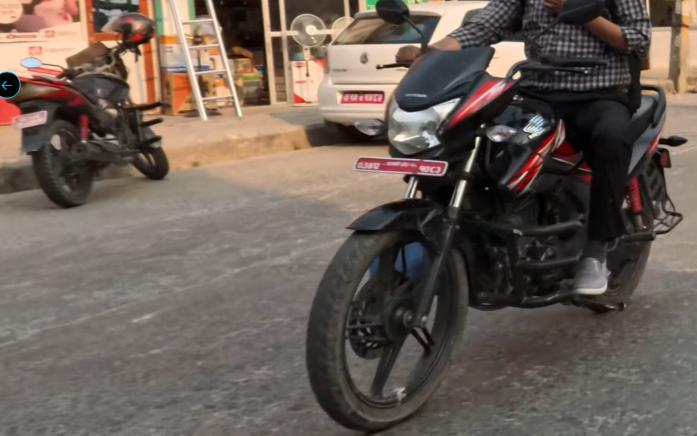bike: (302, 15, 689, 436), (0, 31, 172, 211)
